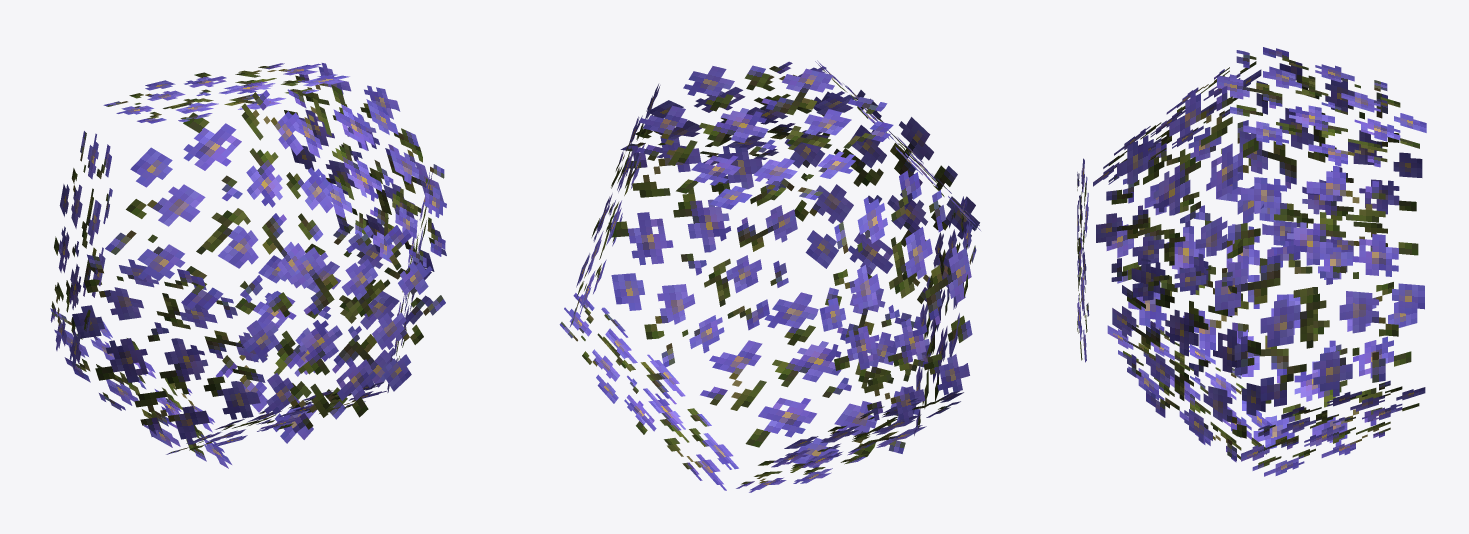
Rendered from flowers-big-3-blue.obj.
3 views of the same model, side by side, from view 1: azimuth 30°, elevation 25°; view 2: azimuth 150°, elevation 25°; view 3: azimuth 270°, elevation 25° (orthographic). The views are drawn at different scales.
Bounding box in the file's own units: 1.59 × 1.65 × 1.2.
1 material, 1 textured.
